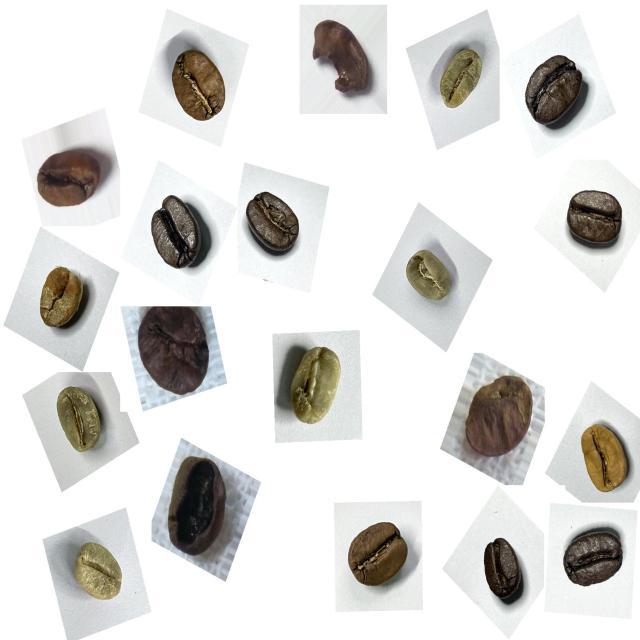bad: (157, 444, 240, 568), (132, 296, 220, 406), (453, 362, 541, 471), (305, 8, 381, 110), (31, 134, 115, 224)
dark: (514, 39, 598, 140), (142, 183, 219, 279), (553, 517, 629, 604), (240, 179, 312, 265), (560, 178, 632, 260), (470, 526, 534, 615)
green: (277, 332, 354, 435), (62, 532, 132, 618), (44, 375, 110, 465), (394, 238, 461, 318), (428, 38, 491, 122)
light: (566, 406, 640, 504), (30, 254, 95, 340)
medium: (339, 510, 419, 600), (161, 42, 239, 134)
